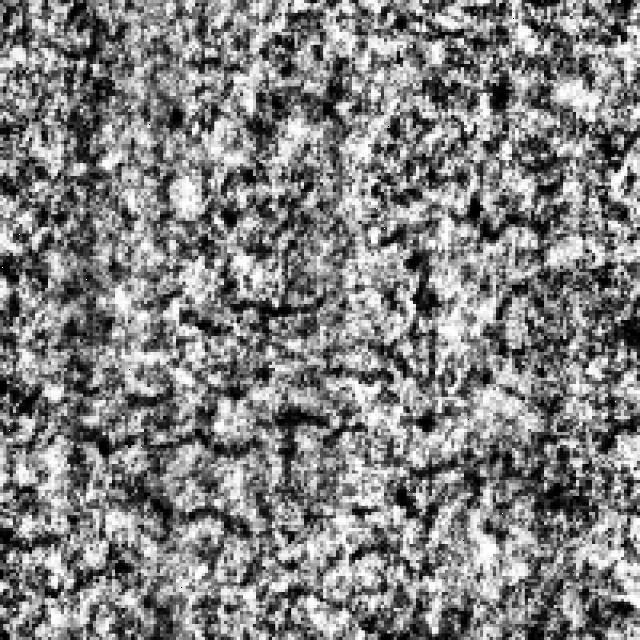Pitted_Surface: (68, 368, 342, 541)
